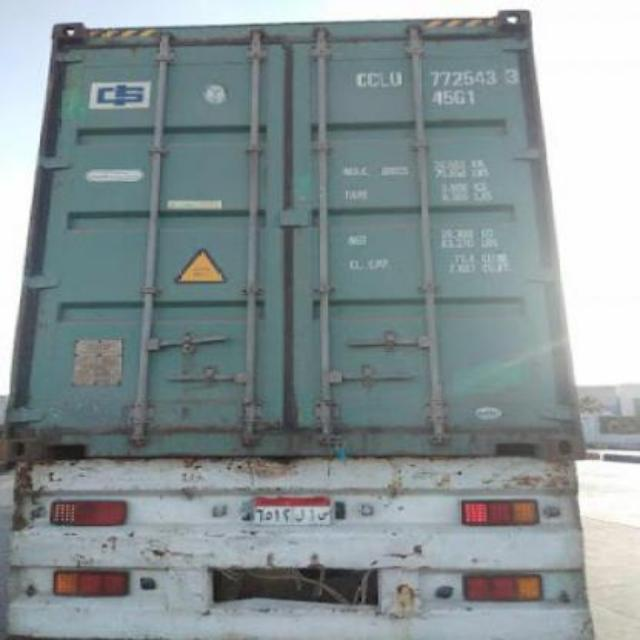2: (452, 69, 464, 85)
3: (484, 66, 498, 86), (506, 67, 518, 83)
4: (474, 67, 486, 87)
5: (462, 69, 474, 85)
7: (428, 69, 440, 87), (440, 69, 450, 85)
C: (354, 72, 366, 88), (368, 72, 378, 88)
L: (378, 70, 390, 86)
U: (390, 69, 402, 87)
